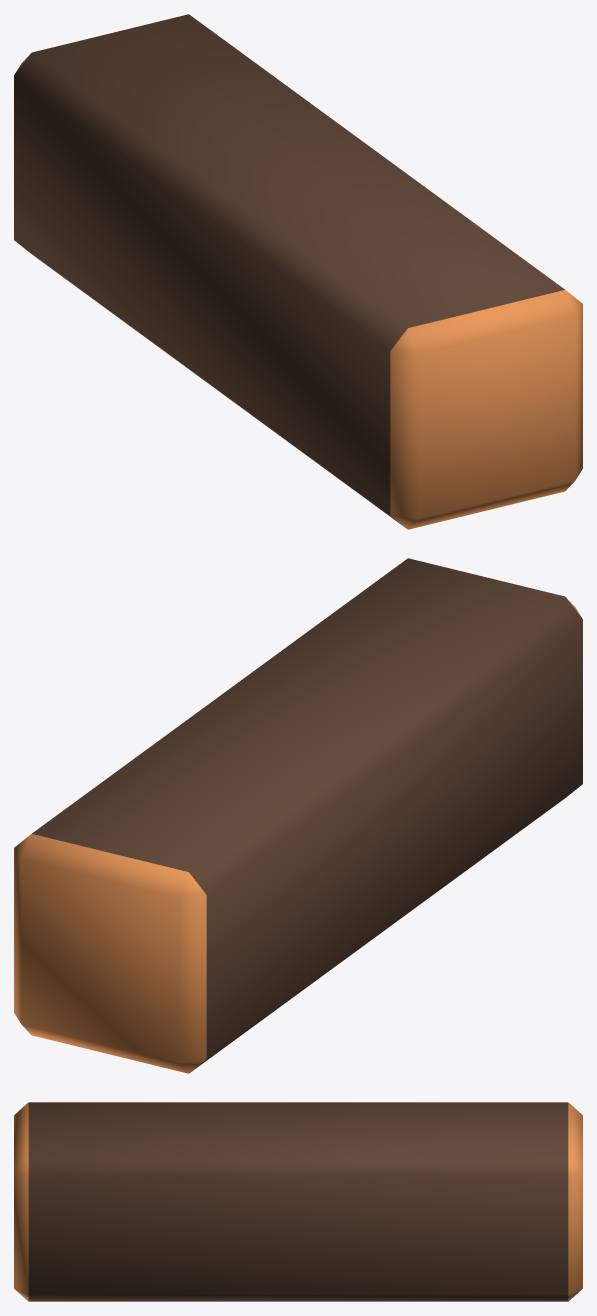
The model's file is Wooden-Block.fbx.
The picture shows the model from 3 angles, top to bottom: view 1: azimuth 30°, elevation 25°; view 2: azimuth 150°, elevation 25°; view 3: azimuth 270°, elevation 25°; orthographic projection. The views are drawn at different scales.
Visible parts, largest first — view 1: Cube.589; view 2: Cube.589; view 3: Cube.589.
Part boxes in pixels (x1,y1,x2,y2): Cube.589: (14, 14, 582, 529); Cube.589: (14, 558, 582, 1073); Cube.589: (14, 1102, 582, 1301).
Size of the model in its own units: 4.55 by 4.55 by 16.24.
